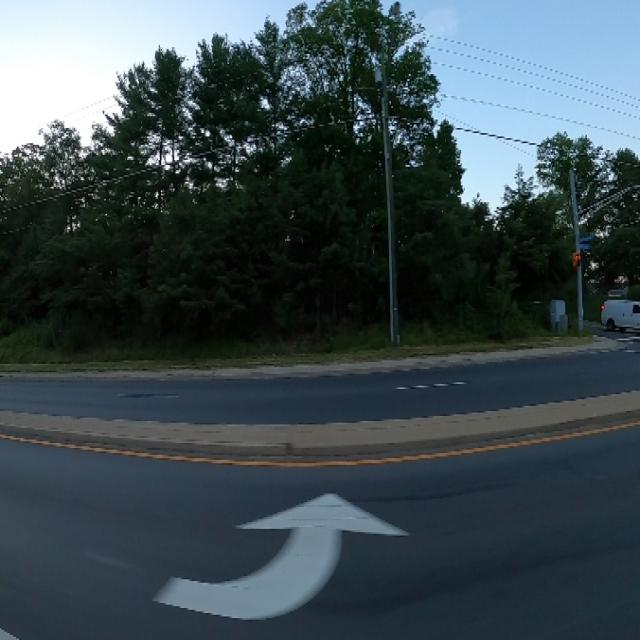cars: (599, 286, 640, 341)
